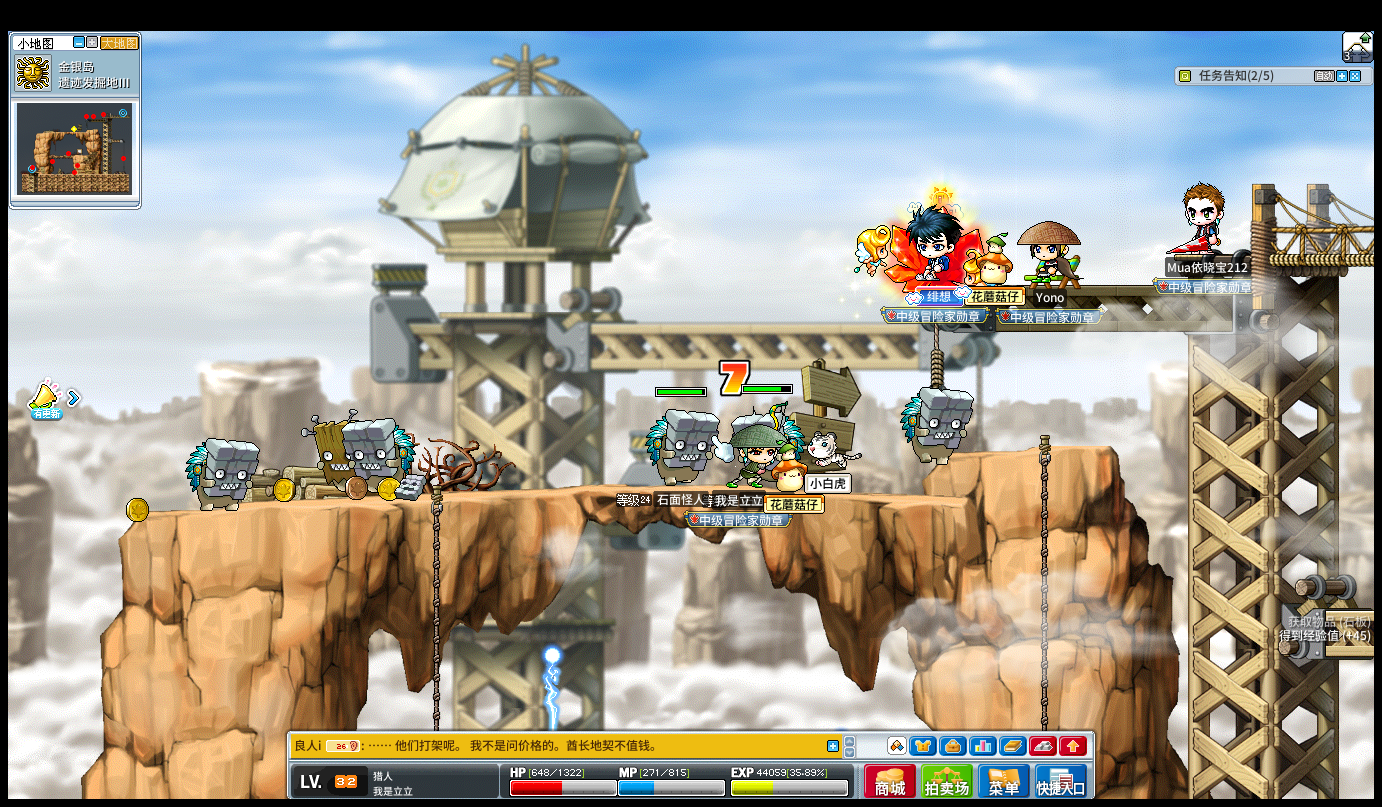floor: (143, 480, 986, 506), (156, 481, 985, 498), (957, 443, 1118, 458)
monster: (343, 417, 415, 502), (643, 407, 717, 486), (901, 386, 973, 466), (184, 437, 259, 512), (302, 414, 349, 500)
rope: (1036, 430, 1051, 713), (429, 478, 441, 807), (429, 481, 442, 709)
